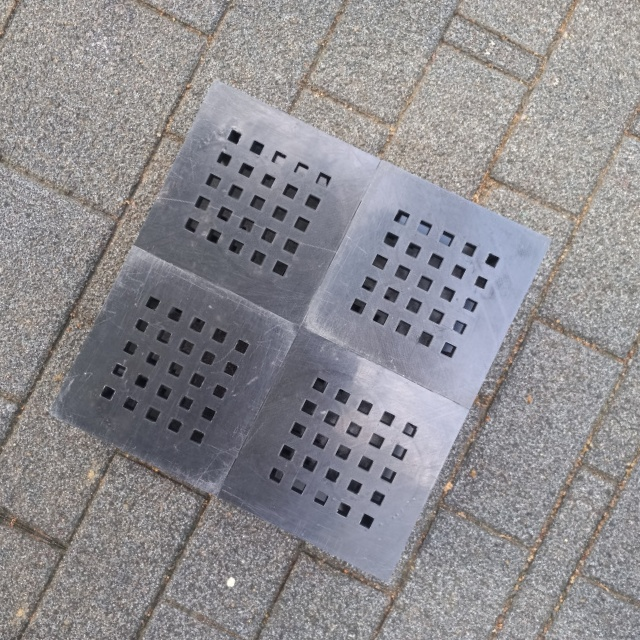pallet: (49, 73, 564, 595)
